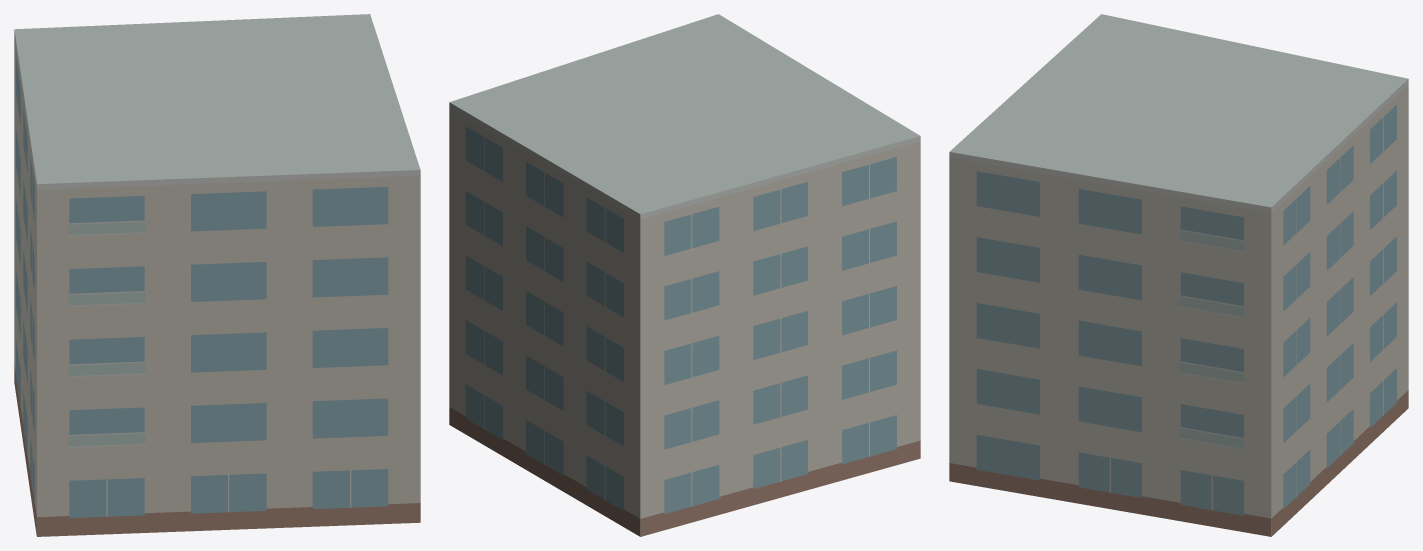
Rendered from survey-upis-32963232.glb.
3 renders of one model, left to right at view 1: azimuth 30°, elevation 25°; view 2: azimuth 150°, elevation 25°; view 3: azimuth 270°, elevation 25°, orthographic. The views are drawn at different scales.
Visible parts, largest first — view 1: survey-upis-32963232.tmp; view 2: survey-upis-32963232.tmp; view 3: survey-upis-32963232.tmp.
Part boxes in pixels (x1,y1,x2,y2): survey-upis-32963232.tmp: (14,14,420,536); survey-upis-32963232.tmp: (449,14,920,536); survey-upis-32963232.tmp: (949,14,1408,536).
Size of the model in its own units: 18.64 by 14.8 by 18.7.
